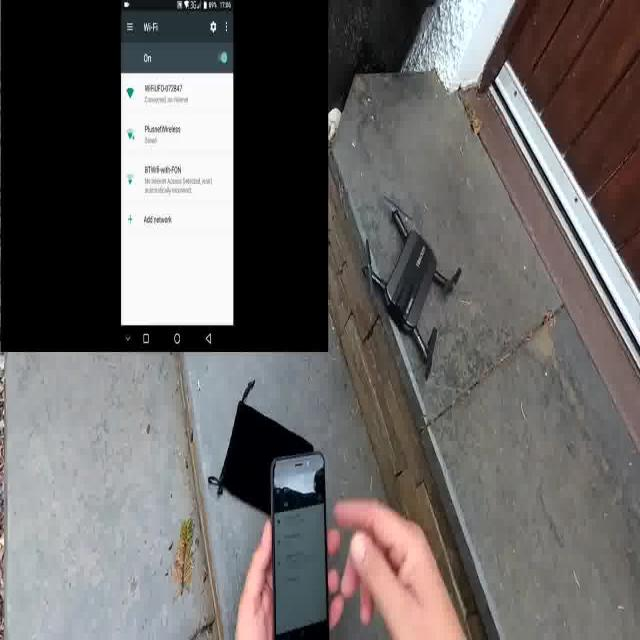drones: (354, 178, 472, 378)
